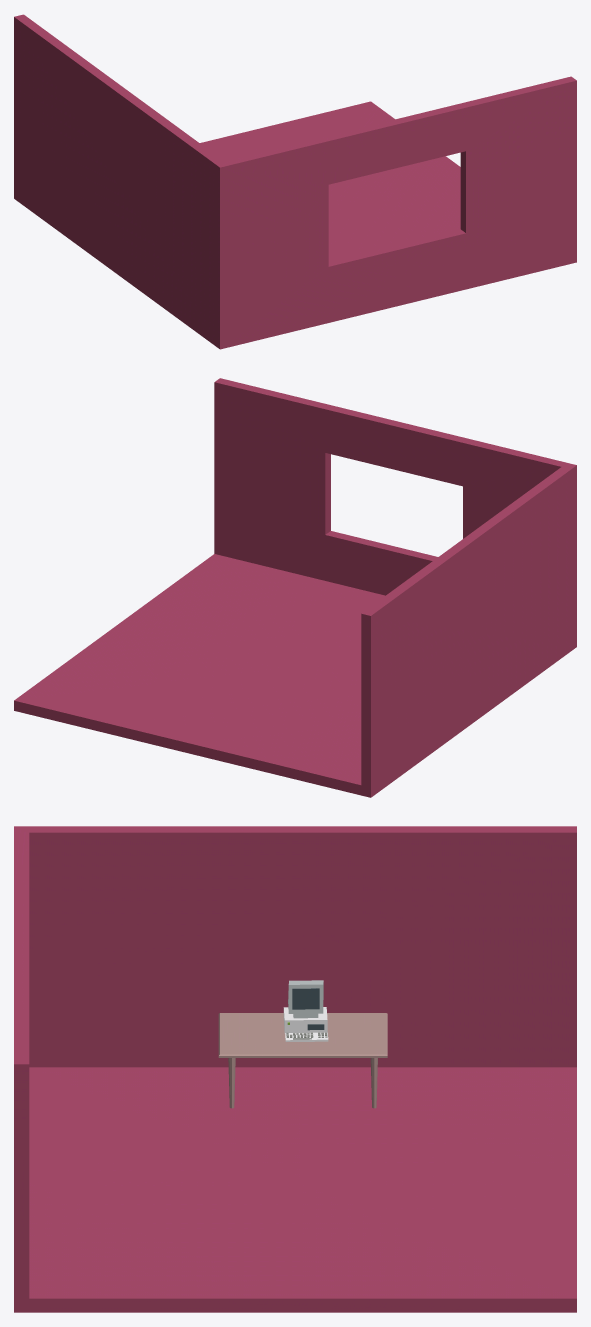
The picture shows the model from 3 angles, top to bottom: view 1: azimuth 30°, elevation 25°; view 2: azimuth 150°, elevation 25°; view 3: azimuth 270°, elevation 25°; orthographic projection. The views are drawn at different scales.
Parts seen in each view (by area): view 1: Plane; view 2: Plane; view 3: Plane, Table_Large_Rectangular_01_Circle.004, screen.
Boxes of the visible parts, x1,y1,x2,y2 form: Plane: [14, 14, 576, 349]; Plane: [14, 378, 576, 797]; Plane: [14, 826, 576, 1312]; Table_Large_Rectangular_01_Circle.004: [218, 1013, 387, 1108]; screen: [283, 980, 328, 1041].
Size of the model in its own units: 15.69 by 7.64 by 15.69.
Materials: 3 (3 with a texture image).
